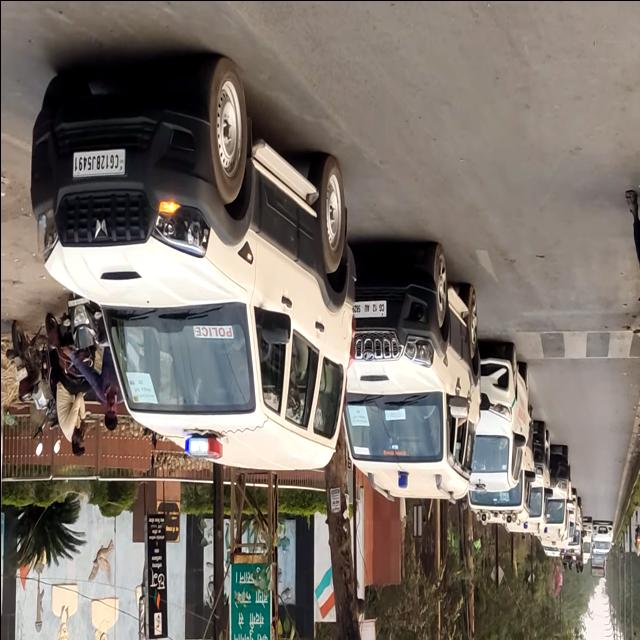emergency-vehicles: (20, 39, 350, 486), (324, 224, 482, 510), (446, 341, 536, 500)
